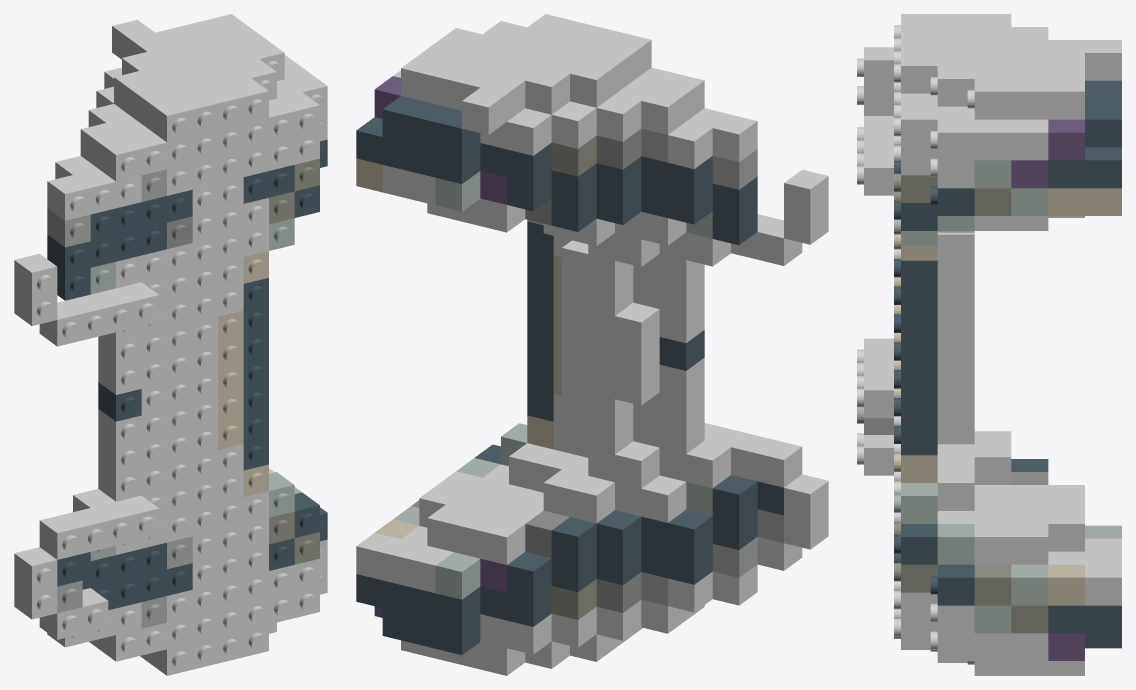
File: full.glb
The picture shows the model from 3 angles, left to right: view 1: azimuth 30°, elevation 25°; view 2: azimuth 150°, elevation 25°; view 3: azimuth 270°, elevation 25°; orthographic projection. The views are drawn at different scales.
Parts seen in each view (by area): view 1: world; view 2: world; view 3: world.
Boxes of the visible parts, <box> form: world: <box>14,14,327,675</box>; world: <box>356,14,828,675</box>; world: <box>857,14,1121,675</box>.
Size of the model in its own units: 104 by 168 by 69.
